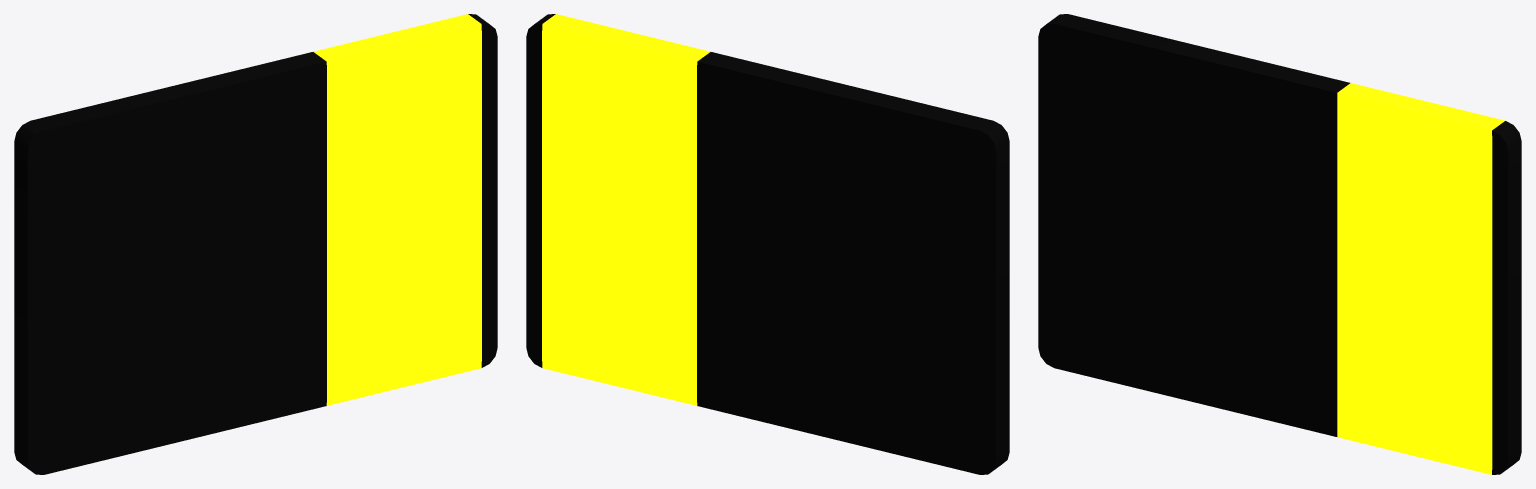
File: Cartoes.fbx
3 renders of one model, left to right at view 1: azimuth 30°, elevation 25°; view 2: azimuth 150°, elevation 25°; view 3: azimuth 330°, elevation 25°, orthographic.
Parts seen in each view (by area): view 1: CartaoAmarelo; view 2: CartaoAmarelo; view 3: CartaoAmarelo.
Boxes of the visible parts, bbox=[...] form: CartaoAmarelo: bbox=[14, 14, 497, 474]; CartaoAmarelo: bbox=[526, 14, 1009, 474]; CartaoAmarelo: bbox=[1038, 14, 1521, 474].
Bounding box in the file's own units: 20 × 14 × 1.
